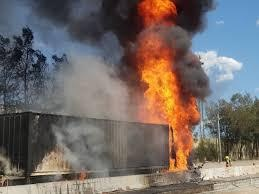fire: (130, 9, 206, 171), (33, 146, 67, 172), (73, 166, 90, 180)
